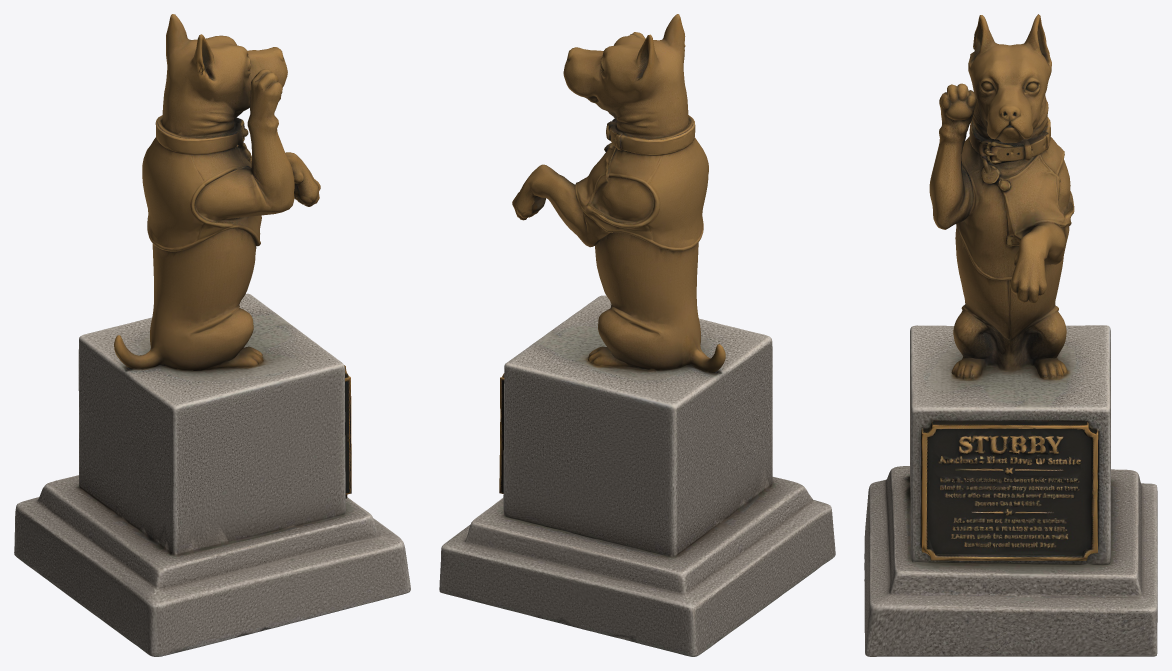
The model's file is DOM_andreyvbvbvb_2.glb.
3 renders of one model, left to right at view 1: azimuth 30°, elevation 25°; view 2: azimuth 150°, elevation 25°; view 3: azimuth 270°, elevation 25°, orthographic. The views are drawn at different scales.
Visible parts, largest first — view 1: tripo_node_9353659d-6d01-4d3a-9156-296c6a01407c; view 2: tripo_node_9353659d-6d01-4d3a-9156-296c6a01407c; view 3: tripo_node_9353659d-6d01-4d3a-9156-296c6a01407c.
Boxes of the visible parts, bbox=[...] form: tripo_node_9353659d-6d01-4d3a-9156-296c6a01407c: bbox=[14, 14, 410, 656]; tripo_node_9353659d-6d01-4d3a-9156-296c6a01407c: bbox=[439, 14, 835, 656]; tripo_node_9353659d-6d01-4d3a-9156-296c6a01407c: bbox=[864, 14, 1157, 656].
Size of the model in its own units: 0.4769 by 0.9802 by 0.4574.
1 material, 1 textured.
